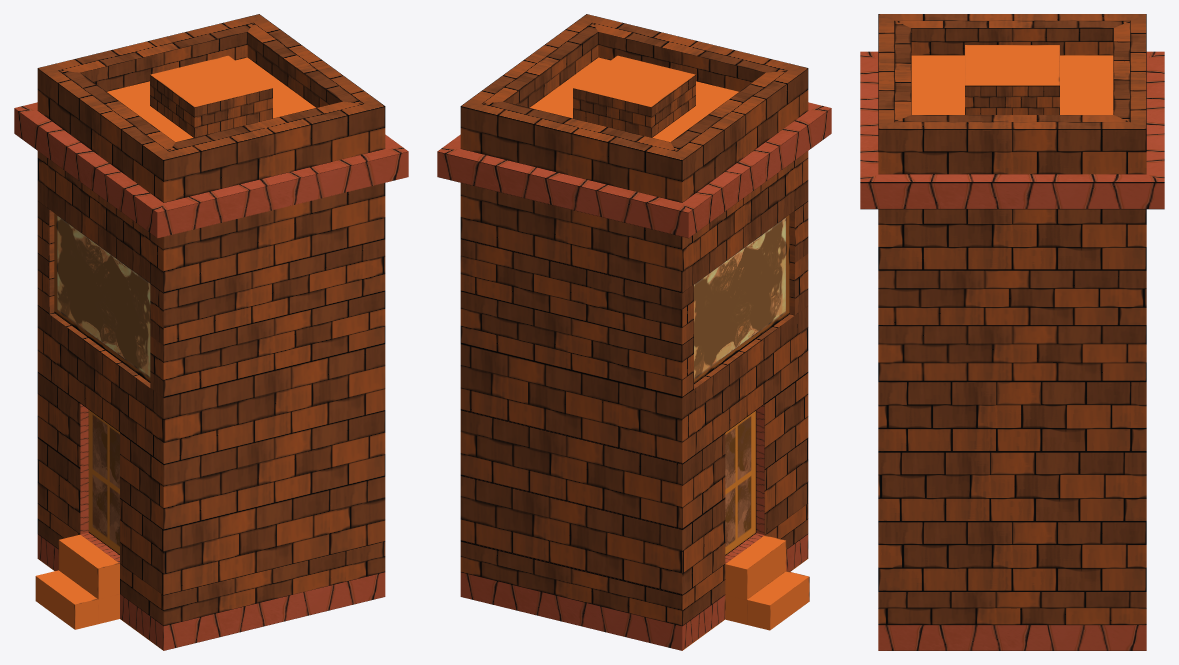
The model's file is Depaul_Building_5.fbx.
3 views of the same model, side by side, from view 1: azimuth 30°, elevation 25°; view 2: azimuth 150°, elevation 25°; view 3: azimuth 270°, elevation 25° (orthographic). The views are drawn at different scales.
Visible parts, largest first — view 1: Box001; view 2: Box001; view 3: Box001.
Part boxes in pixels (x1=…): Box001: x1=14, y1=14, x2=408, y2=650; Box001: x1=437, y1=14, x2=831, y2=650; Box001: x1=860, y1=14, x2=1164, y2=650.
Size of the model in its own units: 218 by 368 by 192.
